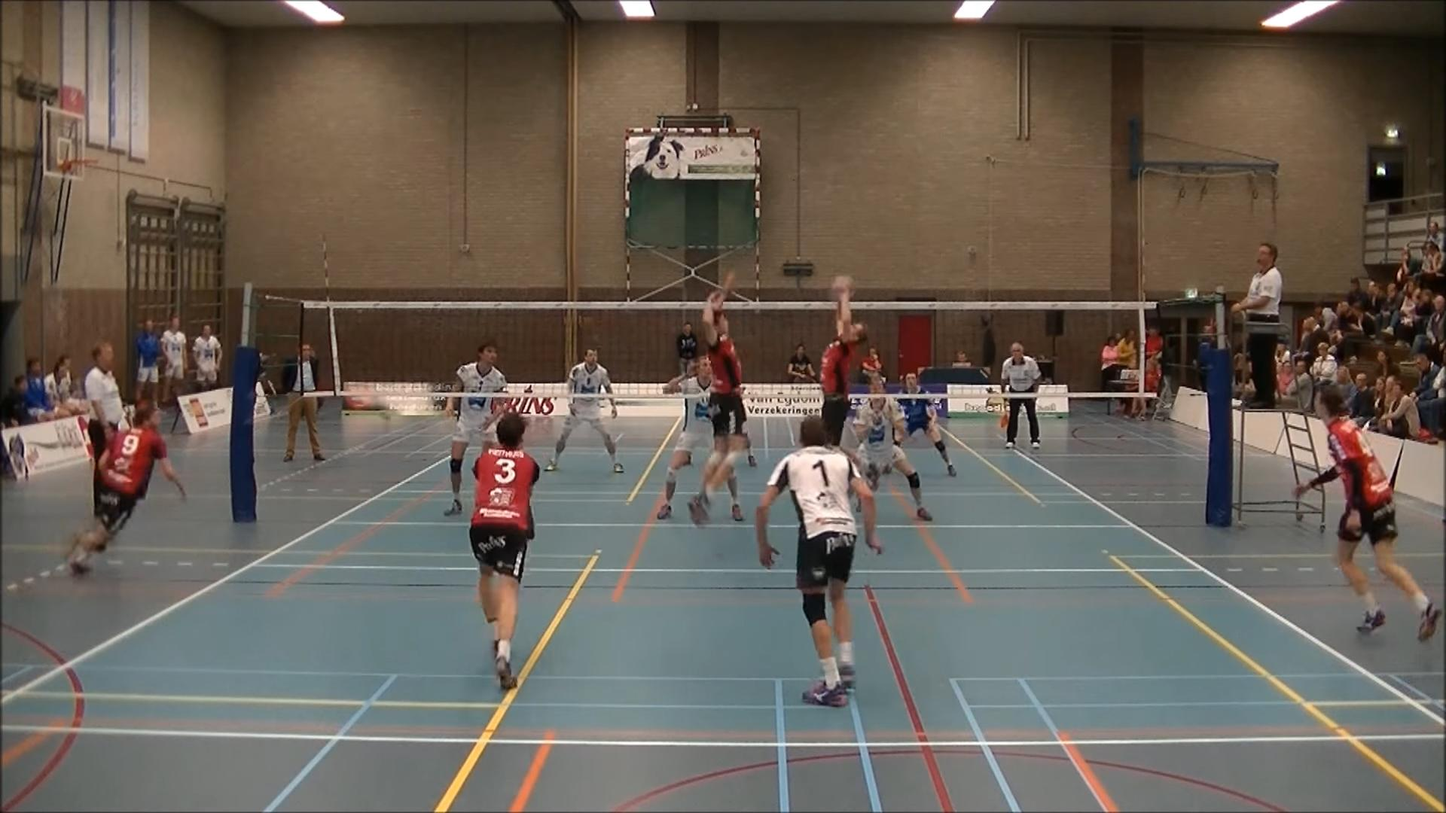Attack: (688, 274, 764, 525)
Player: (1295, 385, 1441, 641), (755, 416, 882, 706), (67, 401, 185, 574), (469, 411, 539, 690), (854, 380, 932, 521), (444, 339, 506, 515), (545, 349, 623, 473), (657, 358, 712, 519), (898, 373, 955, 476)
Set: (804, 274, 880, 487)
ball: (825, 272, 859, 297)
